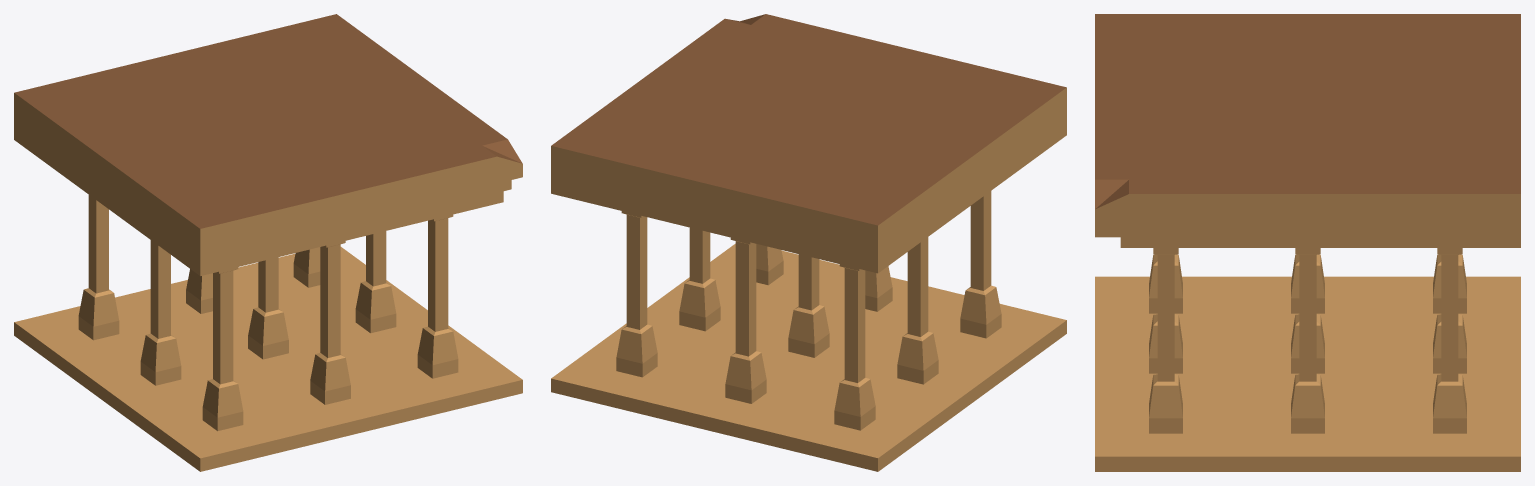
File: india_hindu-pillars-corner.fbx
3 views of the same model, side by side, from view 1: azimuth 30°, elevation 25°; view 2: azimuth 150°, elevation 25°; view 3: azimuth 270°, elevation 25° (orthographic). The views are drawn at different scales.
Visible parts, largest first — view 1: india_hindu_pillars_corner; view 2: india_hindu_pillars_corner; view 3: india_hindu_pillars_corner.
Part boxes in pixels (x1,y1,x2,y2): india_hindu_pillars_corner: [14, 14, 522, 471]; india_hindu_pillars_corner: [551, 14, 1066, 471]; india_hindu_pillars_corner: [1095, 14, 1520, 471].
Size of the model in its own units: 200 by 144 by 200.
